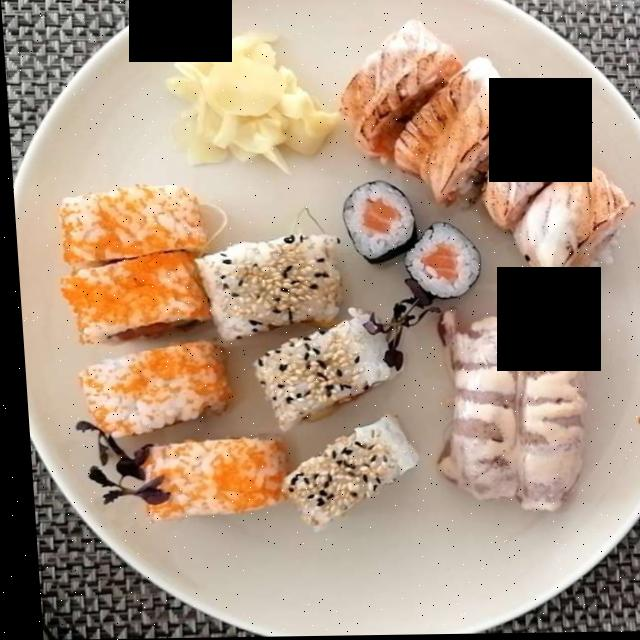sushi: (60, 28, 631, 540)
